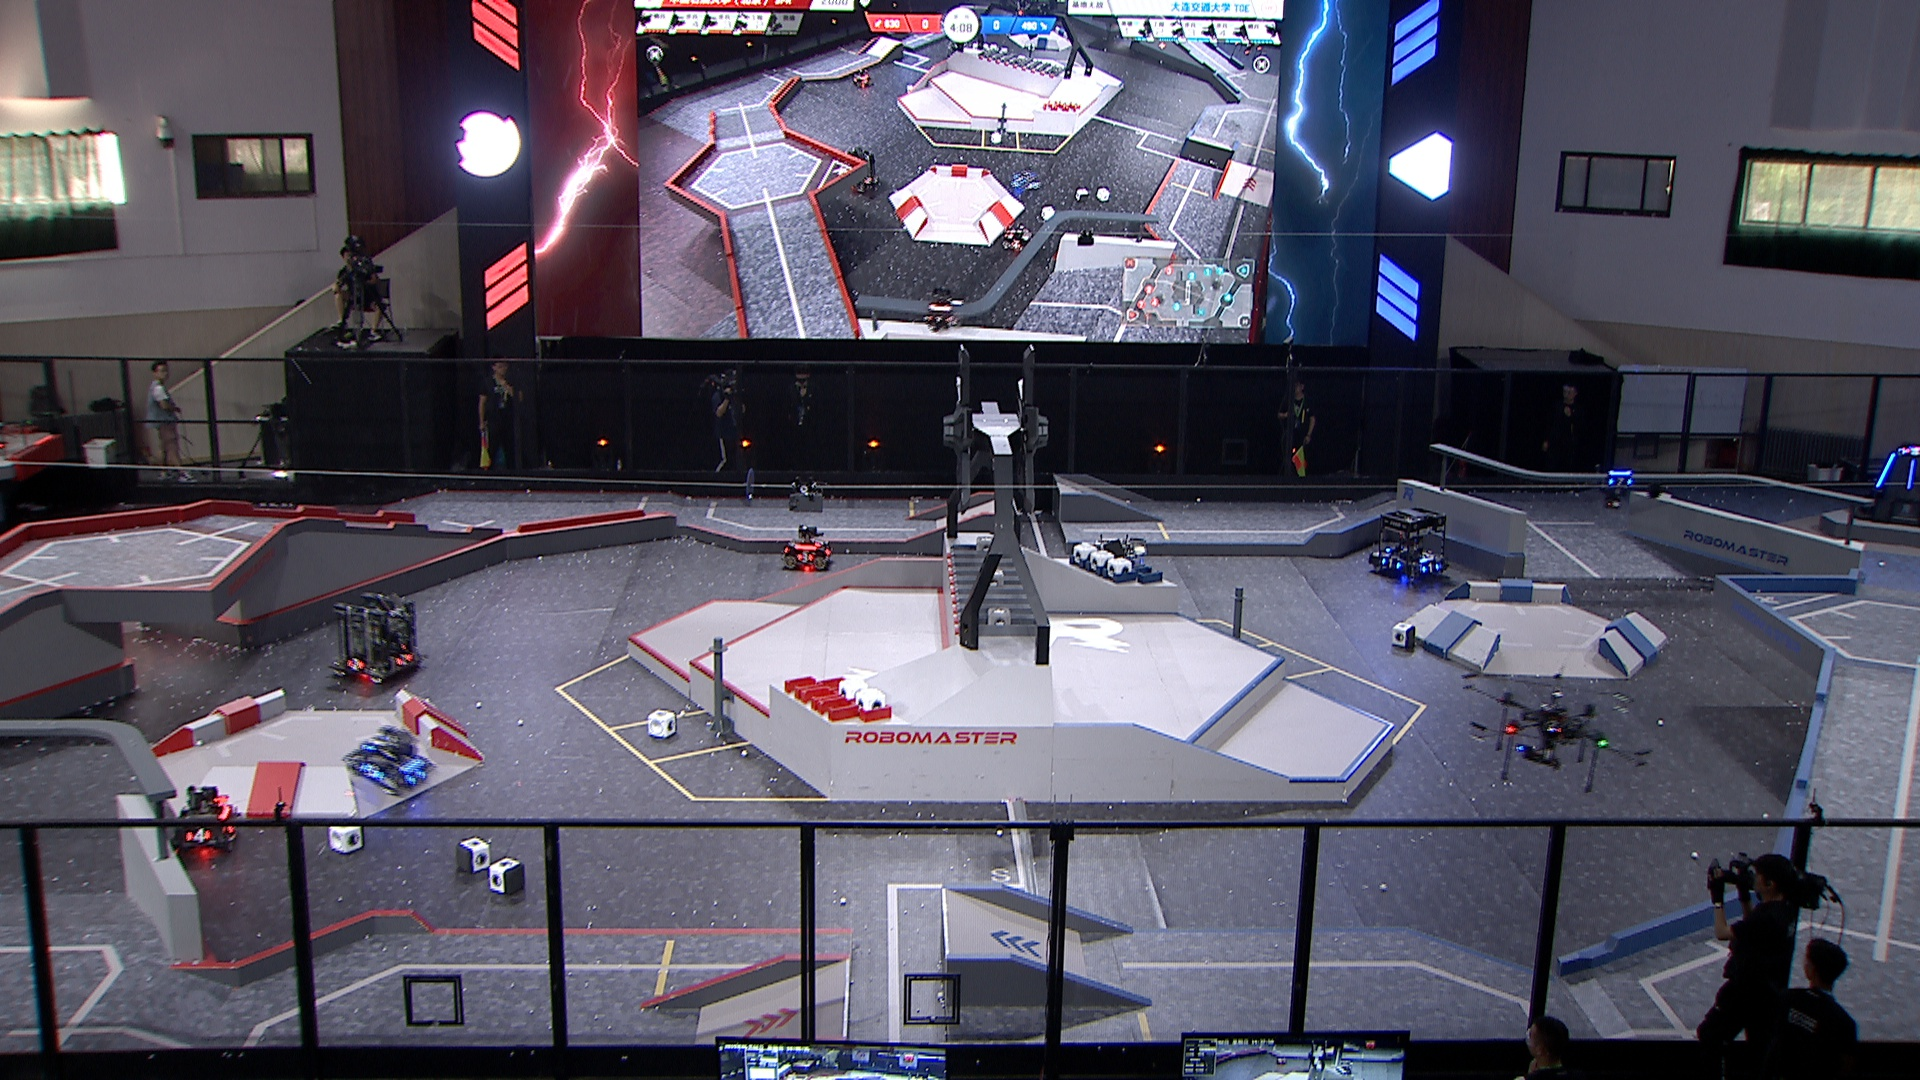armor: (1874, 454, 1898, 489), (359, 731, 392, 752), (405, 767, 429, 787), (186, 828, 214, 844), (361, 764, 382, 783), (394, 651, 417, 669), (1607, 475, 1634, 489), (1907, 458, 1917, 491), (1381, 556, 1404, 571), (345, 655, 367, 671), (1422, 560, 1441, 576), (795, 553, 816, 564)
base: (1851, 443, 1920, 527)
car: (328, 591, 430, 684), (344, 721, 436, 796), (1367, 506, 1451, 589), (1072, 535, 1150, 616), (169, 785, 239, 853), (775, 526, 835, 571)
ignore: (927, 285, 967, 334), (847, 146, 884, 196), (1001, 222, 1034, 249), (1011, 167, 1043, 194), (851, 65, 874, 88), (1899, 444, 1920, 458), (1013, 1, 1033, 15)
watcher: (1604, 471, 1636, 509)
